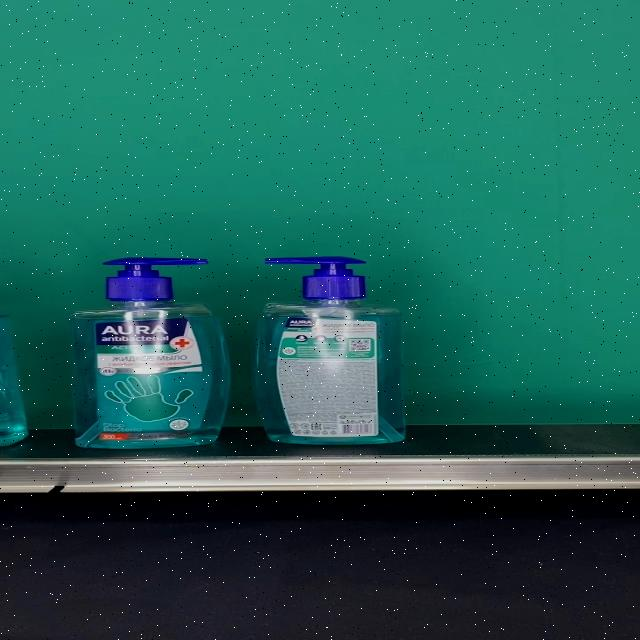Bottle: (67, 258, 231, 449), (254, 256, 405, 445)
Cap: (103, 258, 207, 301), (264, 258, 367, 300)
